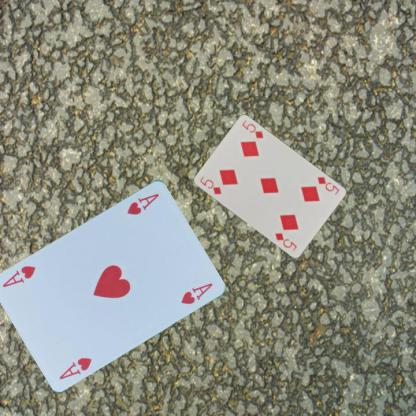5d: (197, 173, 222, 196), (314, 174, 340, 196)
Ah: (124, 190, 160, 216), (57, 354, 93, 380)
